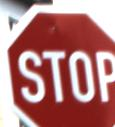Stop sign: (0, 0, 114, 126)
